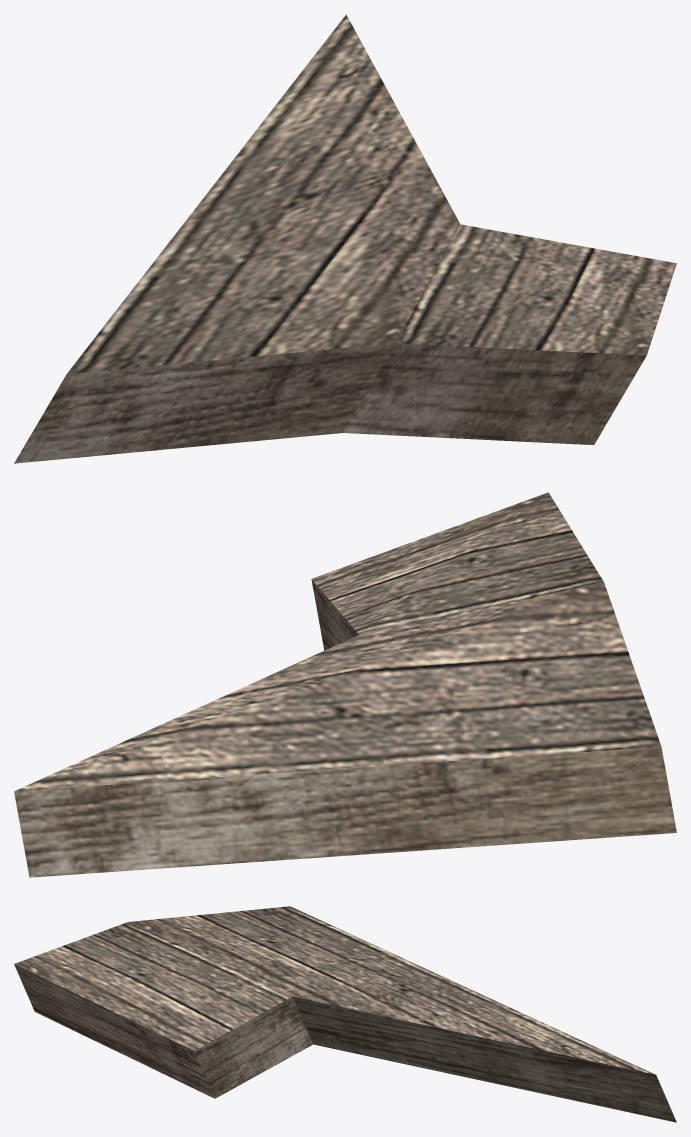
The model's file is wood_splinter_03_001.FBX.
3 views of the same model, one above another, from view 1: azimuth 30°, elevation 25°; view 2: azimuth 150°, elevation 25°; view 3: azimuth 270°, elevation 25° (orthographic). The views are drawn at different scales.
Visible parts, largest first — view 1: Object1251; view 2: Object1251; view 3: Object1251.
Boxes of the visible parts, bbox=[...] form: Object1251: bbox=[14, 14, 676, 463]; Object1251: bbox=[14, 492, 676, 877]; Object1251: bbox=[14, 906, 676, 1122].
Size of the model in its own units: 0.6785 by 0.1941 by 1.01.
Materials: 1 (1 with a texture image).
